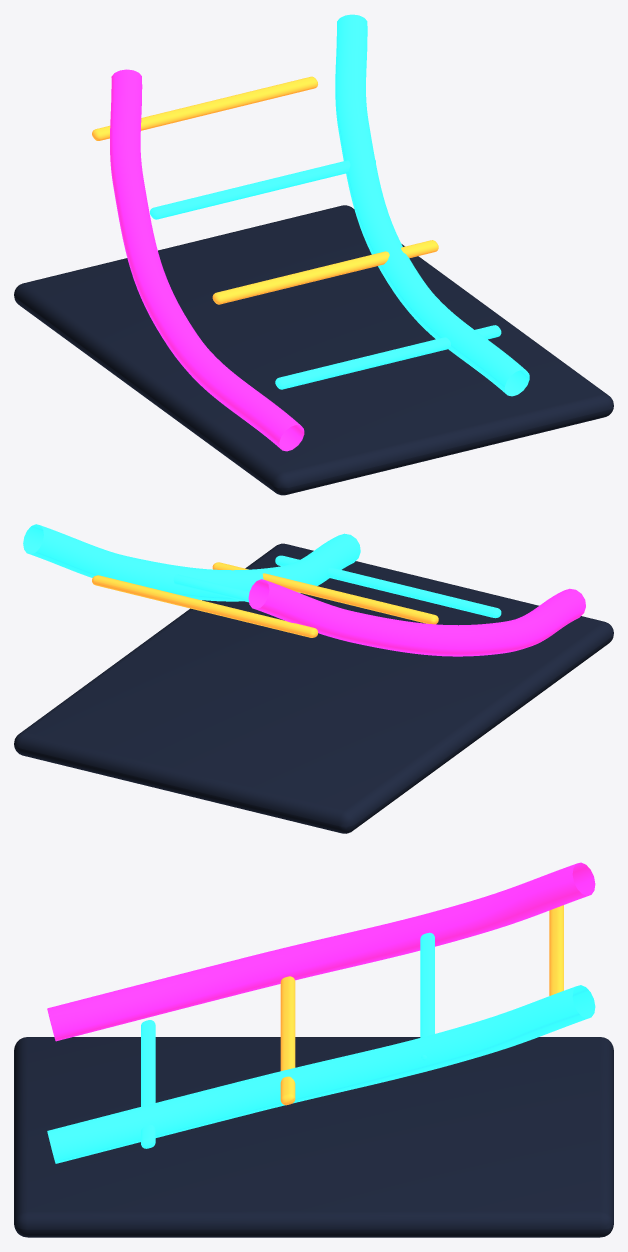
Rendered from ramp.glb.
3 renders of one model, top to bottom at view 1: azimuth 30°, elevation 25°; view 2: azimuth 150°, elevation 25°; view 3: azimuth 270°, elevation 25°, orthographic. The views are drawn at different scales.
Visible parts, largest first — view 1: Ramp_Base, Ramp_LeftRail, Ramp_RightRail, Ramp; view 2: Ramp_Base, Ramp_LeftRail, Ramp_RightRail, Ramp; view 3: Ramp_Base, Ramp_LeftRail, Ramp_RightRail, Ramp.
Part boxes in pixels (x1=…): Ramp_Base: x1=14, y1=205, x2=613, y2=495; Ramp_LeftRail: x1=110, y1=69, x2=304, y2=451; Ramp_RightRail: x1=335, y1=14, x2=529, y2=396; Ramp: x1=92, y1=76, x2=501, y2=389; Ramp_Base: x1=14, y1=543, x2=613, y2=833; Ramp_LeftRail: x1=248, y1=579, x2=585, y2=656; Ramp_RightRail: x1=23, y1=524, x2=360, y2=601; Ramp: x1=92, y1=555, x2=501, y2=637; Ramp_Base: x1=14, y1=1037, x2=613, y2=1237; Ramp_LeftRail: x1=47, y1=862, x2=595, y2=1041; Ramp_RightRail: x1=47, y1=985, x2=595, y2=1163; Ramp: x1=141, y1=905, x2=563, y2=1148.
Size of the model in its own units: 1.78 by 1.1 by 2.4.
